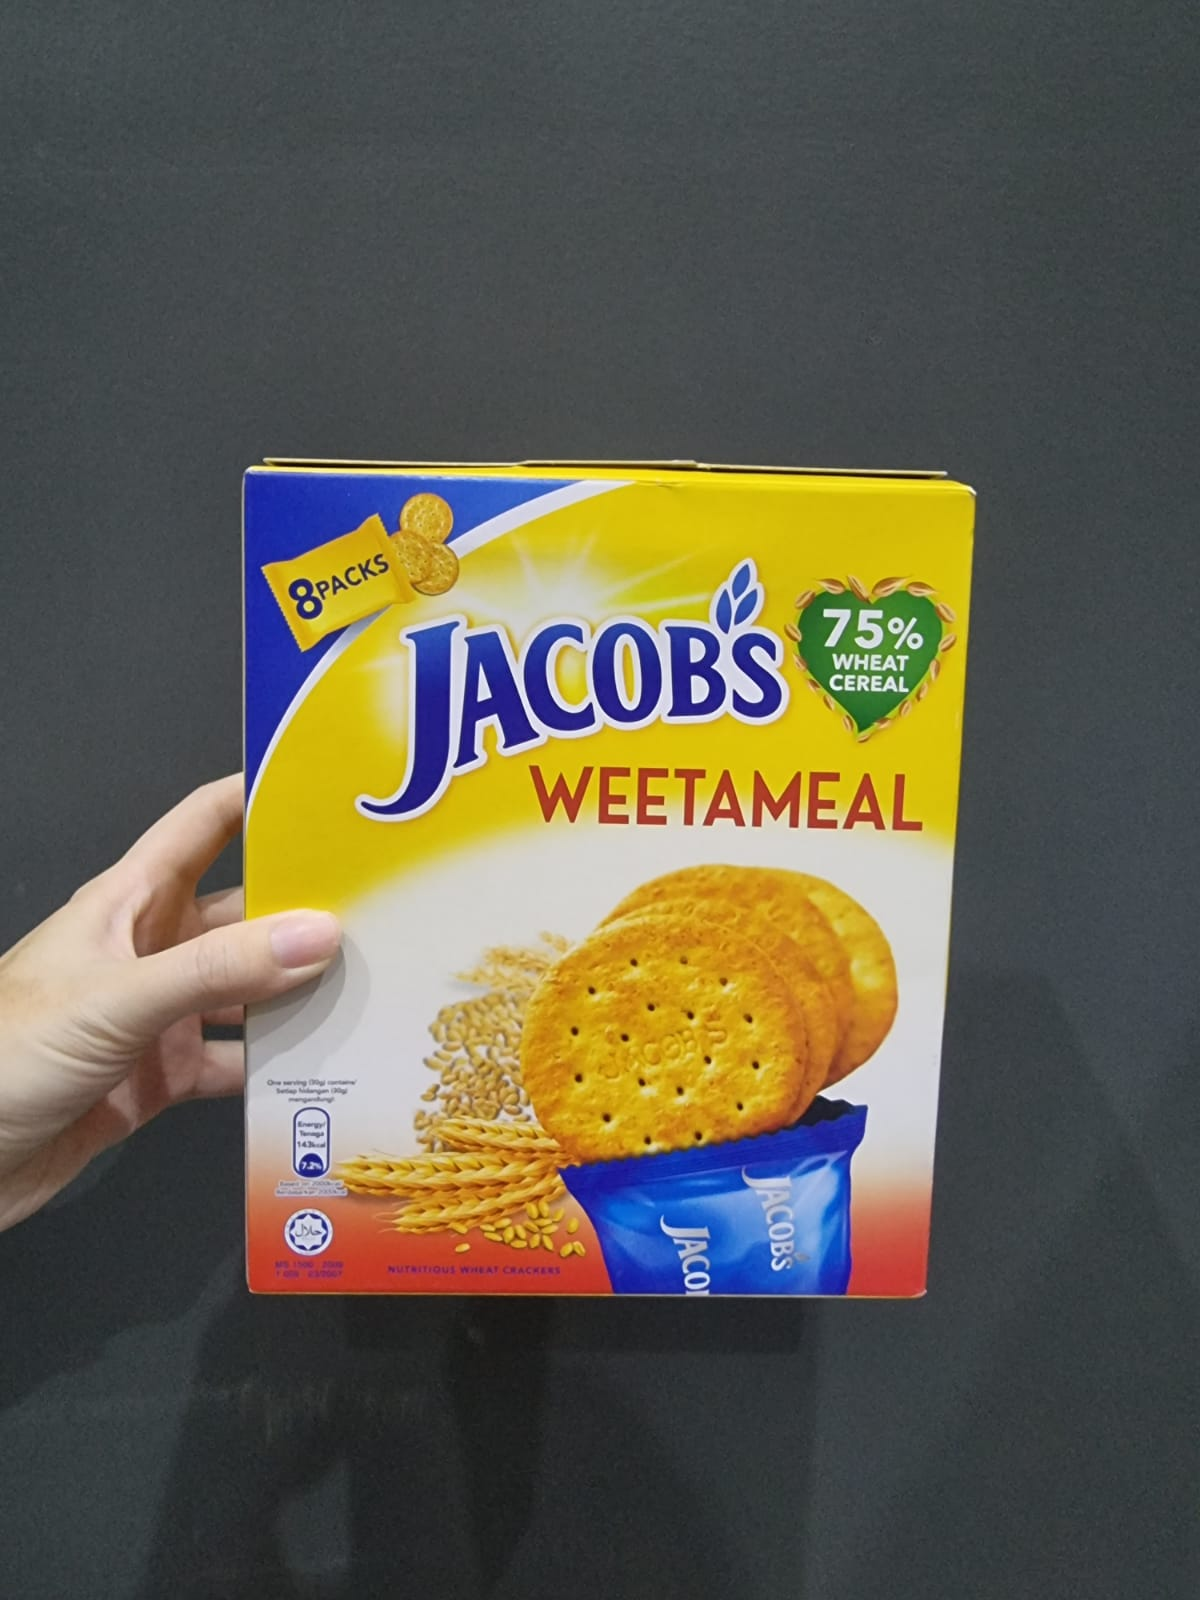Biscuits: (342, 496, 932, 1277)
